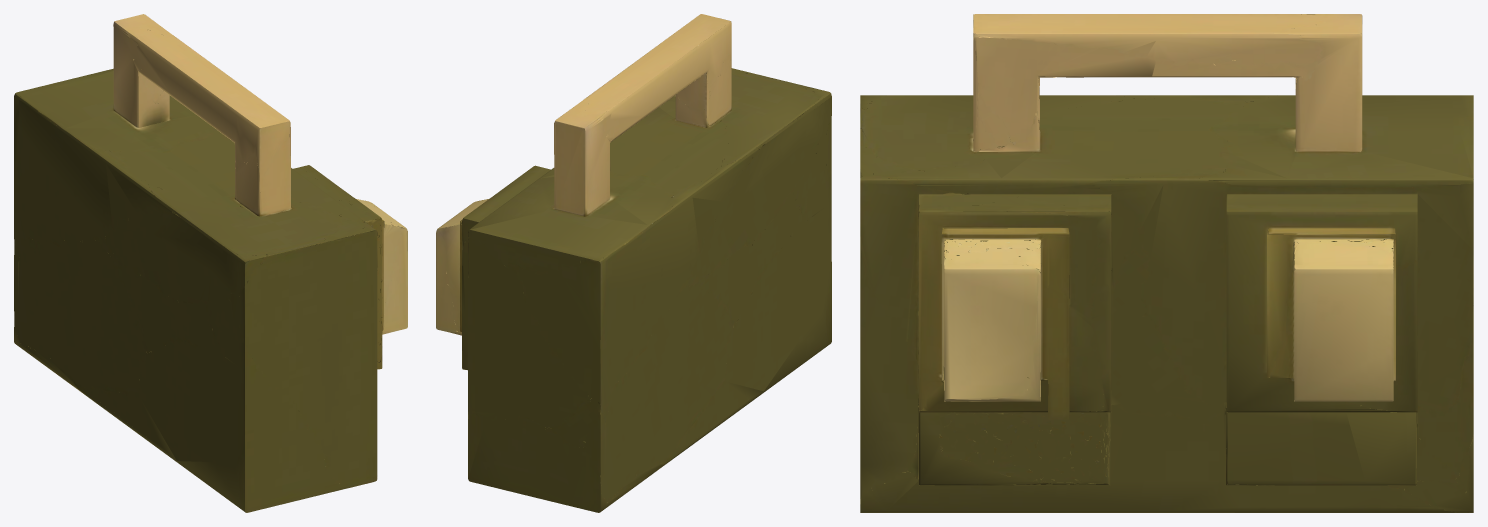
Rendered from ch05_night_attendant_service_kit.glb.
3 renders of one model, left to right at view 1: azimuth 30°, elevation 25°; view 2: azimuth 150°, elevation 25°; view 3: azimuth 270°, elevation 25°, orthographic. The views are drawn at different scales.
Visible parts, largest first — view 1: material; view 2: material; view 3: material.
Boxes of the visible parts, x1=… form: material: x1=14, y1=14, x2=407, y2=512; material: x1=436, y1=14, x2=831, y2=512; material: x1=860, y1=14, x2=1473, y2=512.
Size of the model in its own units: 0.427 by 0.7098 by 0.8737.
1 material, 1 textured.
